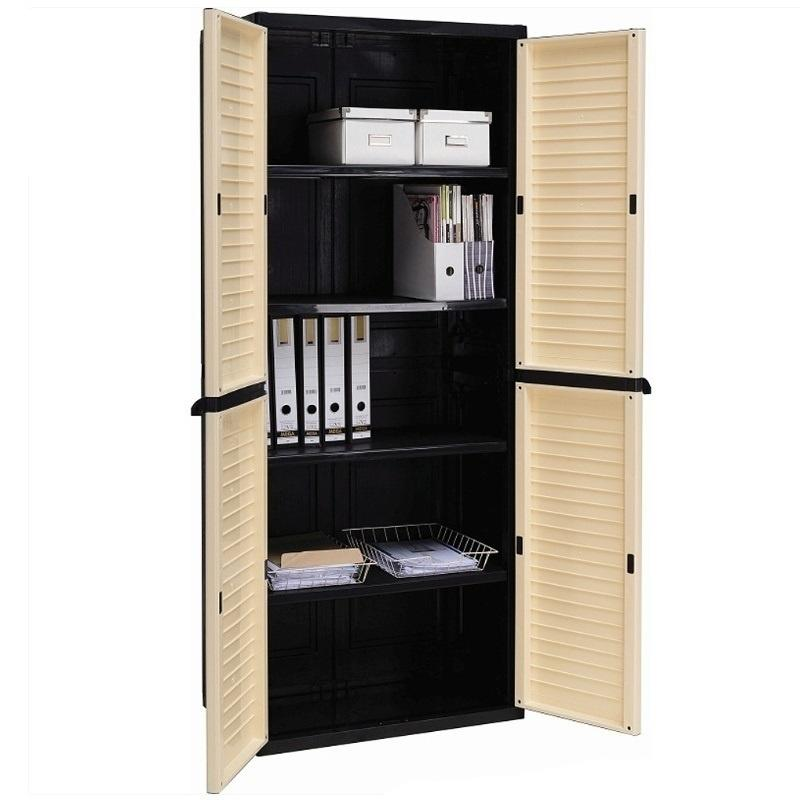cabinet_door: (521, 34, 642, 373), (514, 385, 633, 716), (206, 392, 265, 768), (207, 24, 262, 391)
